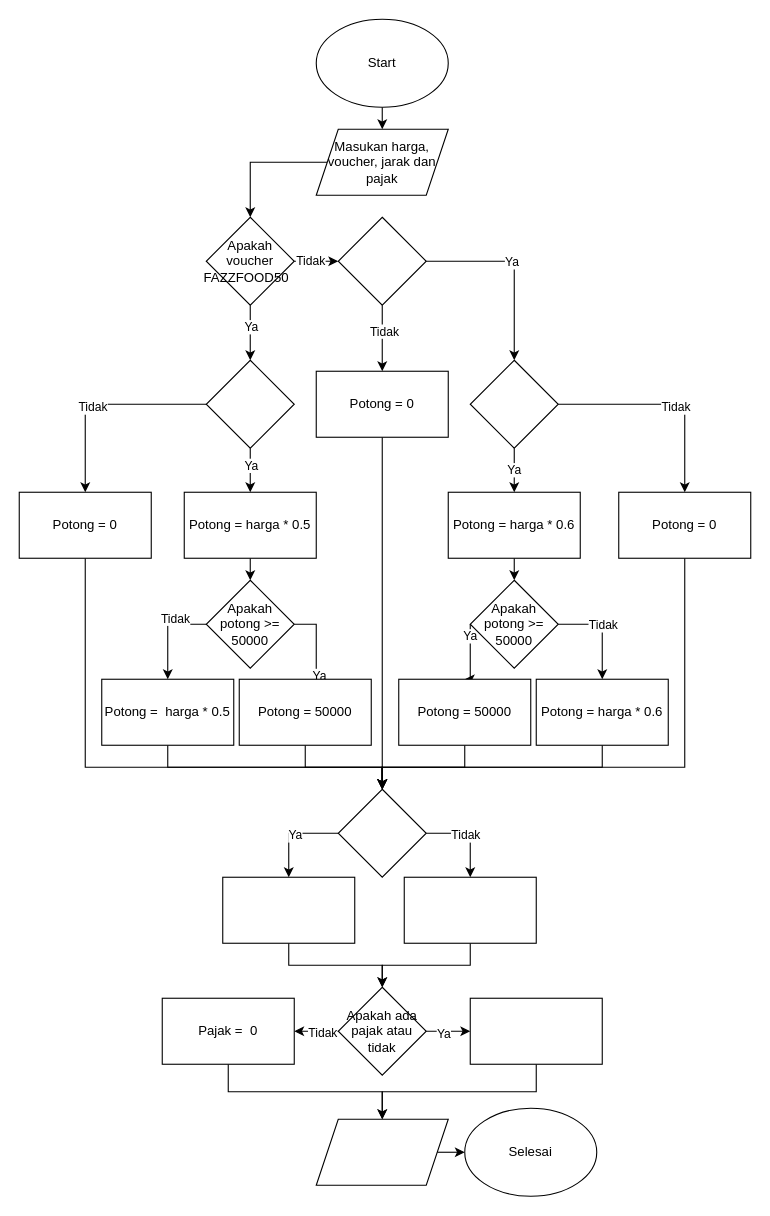
This 770x1216 diagram has some shape labels left out. Here are the shapes that lost their labels. From the top down, the centre of each, then its label:
the point at 381,260: Apakah voucher DITRAKTIR60
the point at 249,403: Apakah harga >= 50000
the point at 513,403: Apakah harga >= 30000
the point at 381,832: Apakah jarak > 2
the point at 288,909: antar = 5000 + ( jarak - 2 ) * 3000
the point at 469,909: antar = 5000
the point at 535,1030: Pajak = harga * 0.05
the point at 381,1151: Cetak potongan, biaya antar, pajak, subtotal = harga - potong + antar + pajak
